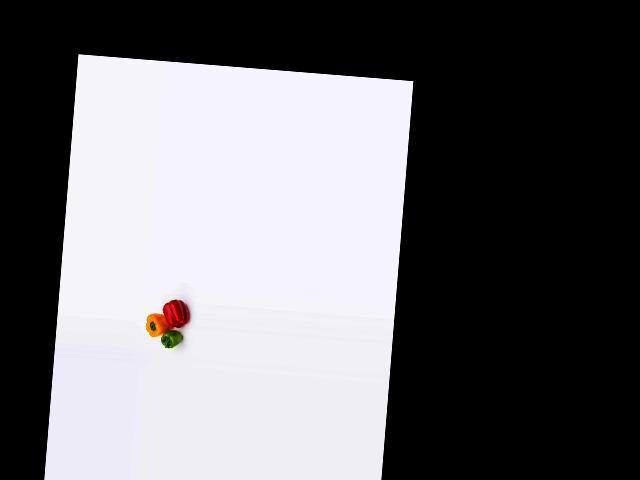bell_pepper: (158, 328, 183, 354)
